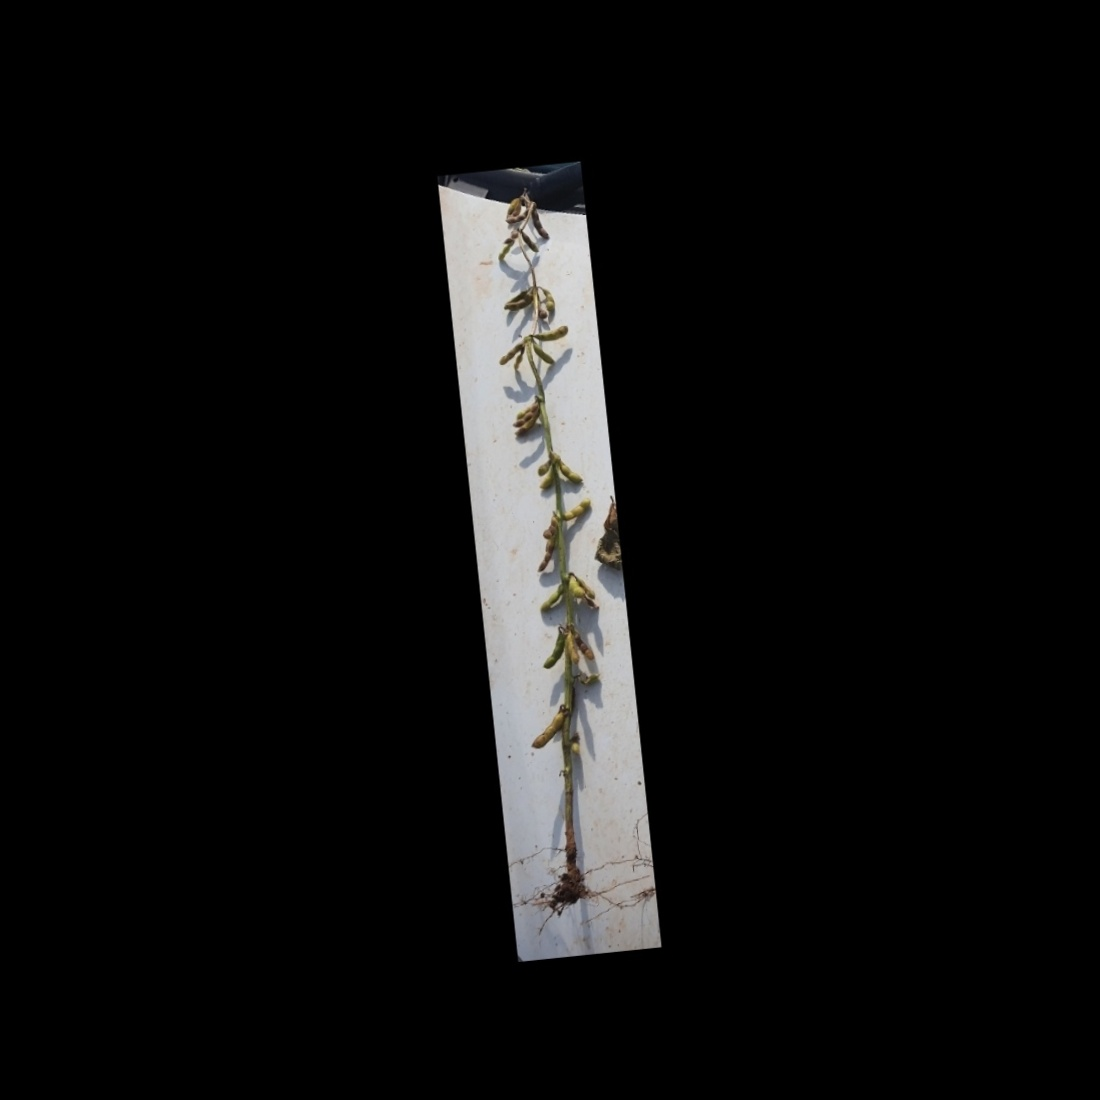pod: (526, 709, 568, 751), (538, 626, 569, 670), (535, 578, 569, 613), (534, 536, 560, 574), (531, 322, 572, 345), (560, 498, 594, 523), (555, 456, 584, 486), (571, 628, 596, 661), (529, 205, 550, 242), (496, 340, 525, 365), (533, 341, 557, 367), (564, 629, 579, 668), (503, 208, 533, 225), (521, 228, 539, 254), (539, 286, 557, 312), (510, 346, 528, 371)
soy: (467, 174, 636, 925)
